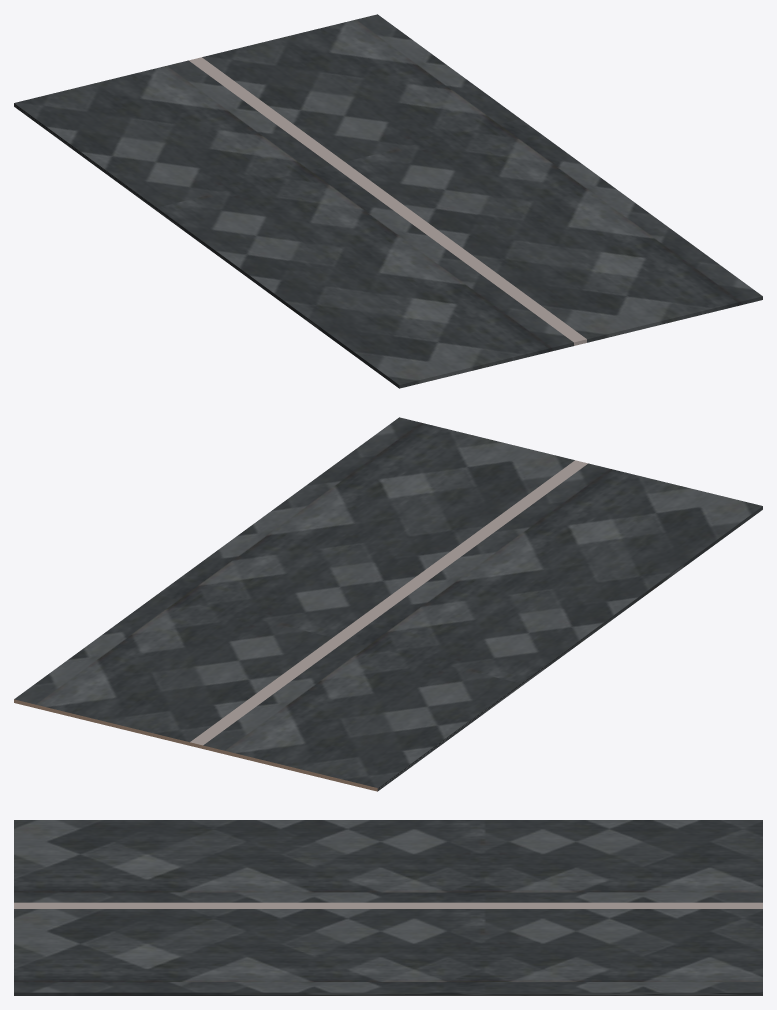
The picture shows the model from 3 angles, top to bottom: view 1: azimuth 30°, elevation 25°; view 2: azimuth 150°, elevation 25°; view 3: azimuth 270°, elevation 25°; orthographic projection. The views are drawn at different scales.
Parts seen in each view (by area): view 1: Box018; view 2: Box018; view 3: Box018.
Boxes of the visible parts, x1,y1,x2,y2 form: Box018: (14,14,762,388); Box018: (14,417,762,791); Box018: (14,820,762,995).
Bounding box in the file's own units: 0.0556 × 0.000523 × 0.1019.
Materials: 3 (1 with a texture image).
